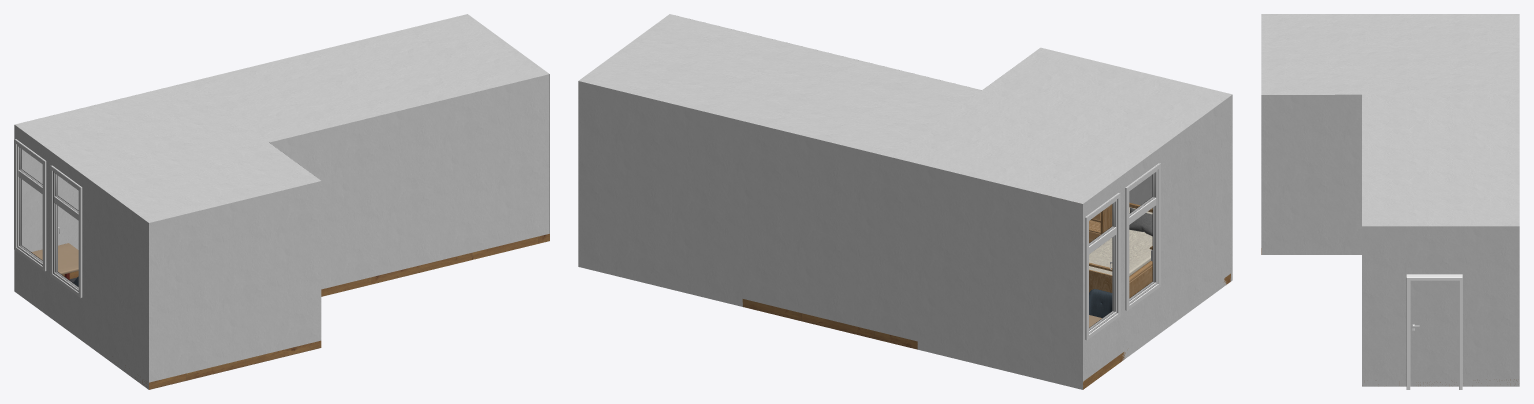
The model's file is raum.fbx.
3 renders of one model, left to right at view 1: azimuth 30°, elevation 25°; view 2: azimuth 150°, elevation 25°; view 3: azimuth 270°, elevation 25°, orthographic. The views are drawn at different scales.
Visible parts, largest first — view 1: wand1, wand3, dach1, dach2, wand4, sesselleiste, wand5, Window2, Window1, tisch; view 2: wand5, dach1, dach2, wand4, Window2, Window1, sesselleiste, matratze, bett, sessel; view 3: wand6, dach2, dach1, wand2, tuer.
Part boxes in pixels (x1=…): wand1: x1=269, y1=74, x2=549, y2=289; wand3: x1=149, y1=181, x2=321, y2=382; dach1: x1=15, y1=82, x2=320, y2=222; dach2: x1=187, y1=14, x2=549, y2=142; wand4: x1=14, y1=125, x2=148, y2=389; sesselleiste: x1=62, y1=233, x2=549, y2=389; wand5: x1=21, y1=149, x2=78, y2=251; Window2: x1=50, y1=165, x2=82, y2=297; Window1: x1=14, y1=139, x2=46, y2=271; tisch: x1=31, y1=243, x2=78, y2=279; wand5: x1=578, y1=81, x2=1082, y2=389; dach1: x1=891, y1=47, x2=1232, y2=203; dach2: x1=578, y1=14, x2=981, y2=156; wand4: x1=1083, y1=95, x2=1232, y2=381; Window2: x1=1125, y1=163, x2=1160, y2=310; Window1: x1=1085, y1=193, x2=1120, y2=340; sesselleiste: x1=742, y1=273, x2=1230, y2=389; matratze: x1=1089, y1=207, x2=1152, y2=275; bett: x1=1089, y1=202, x2=1152, y2=298; sessel: x1=1089, y1=289, x2=1112, y2=317; wand6: x1=1362, y1=226, x2=1519, y2=386; dach2: x1=1362, y1=94, x2=1519, y2=226; dach1: x1=1261, y1=14, x2=1519, y2=94; wand2: x1=1261, y1=94, x2=1361, y2=254; tuer: x1=1406, y1=274, x2=1462, y2=389.
Size of the model in its own units: 841 by 291 by 424.
